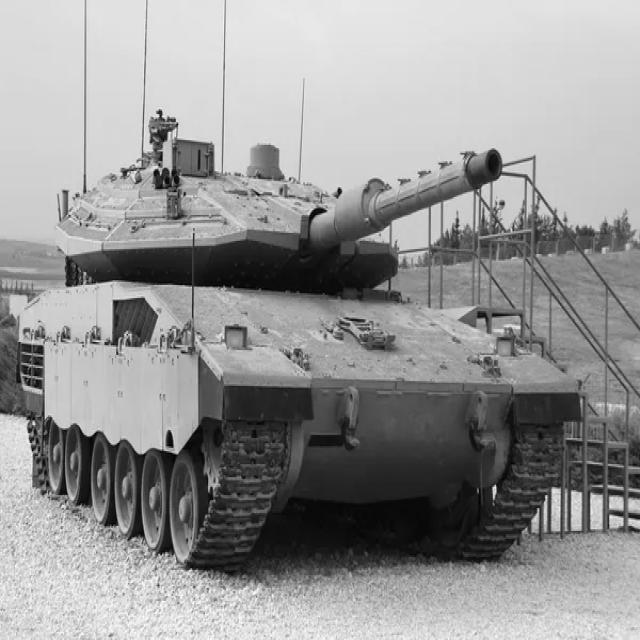Tank: (18, 110, 583, 569)
